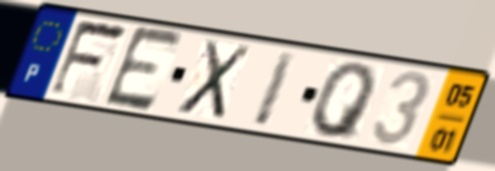3: (370, 70, 436, 151)
E: (99, 23, 188, 115)
F: (44, 17, 132, 101)
I: (248, 48, 301, 130)
Q: (309, 61, 378, 143)
X: (172, 37, 256, 123)
